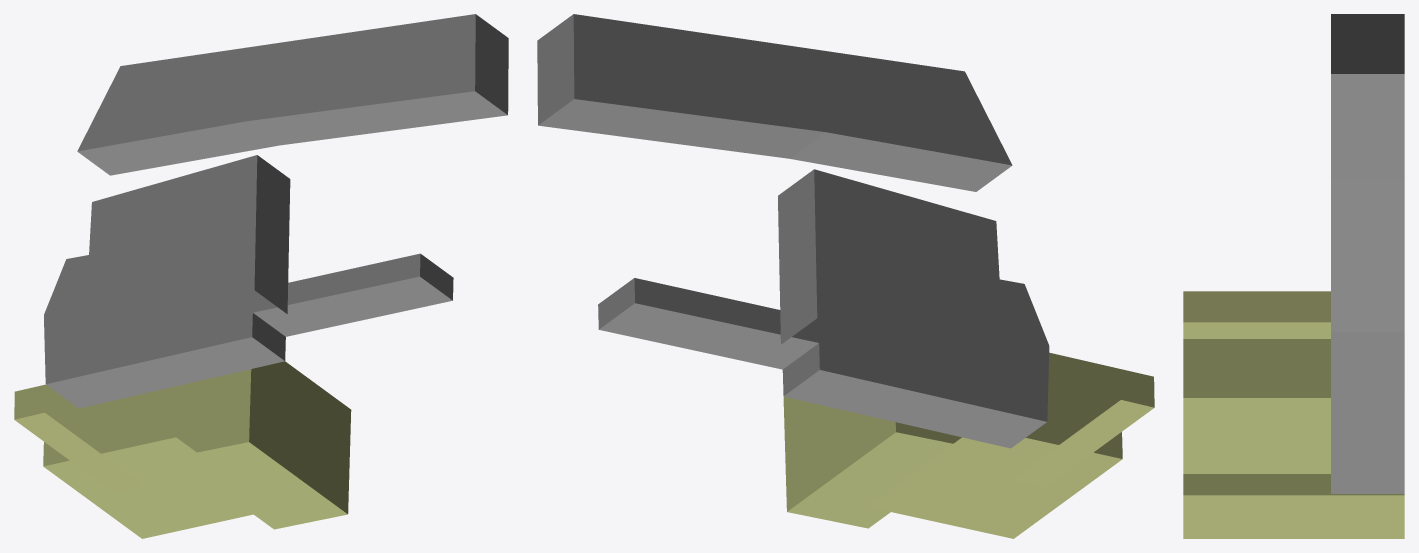
3 views of the same model, side by side, from view 1: azimuth 30°, elevation 25°; view 2: azimuth 150°, elevation 25°; view 3: azimuth 270°, elevation 25° (orthographic). The views are drawn at different scales.
Parts seen in each view (by area): view 1: 0_1_0_0_1_3_2_2_0; view 2: 0_1_0_0_1_3_2_2_0; view 3: 0_1_0_0_1_3_2_2_0.
Boxes of the visible parts, x1=… form: 0_1_0_0_1_3_2_2_0: x1=14, y1=14, x2=508, y2=538; 0_1_0_0_1_3_2_2_0: x1=537, y1=14, x2=1154, y2=538; 0_1_0_0_1_3_2_2_0: x1=1183, y1=14, x2=1404, y2=538.
Bounding box in the file's own units: 24.21 × 20.42 × 9.
